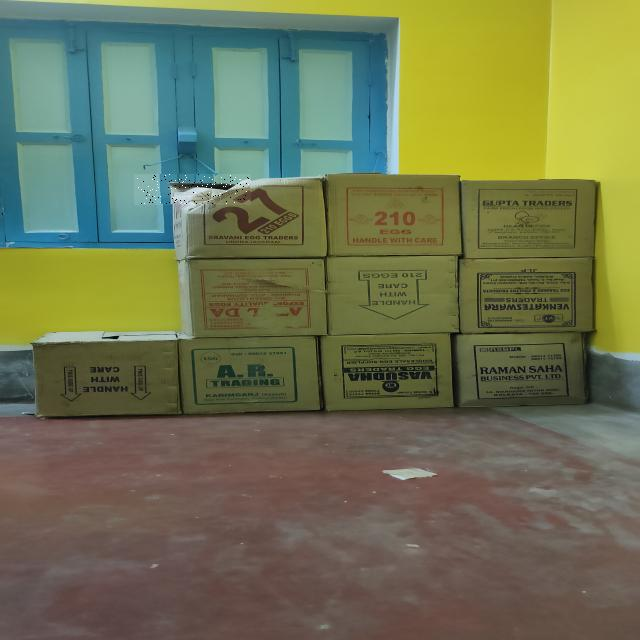squeeze: (135, 175, 249, 204)
